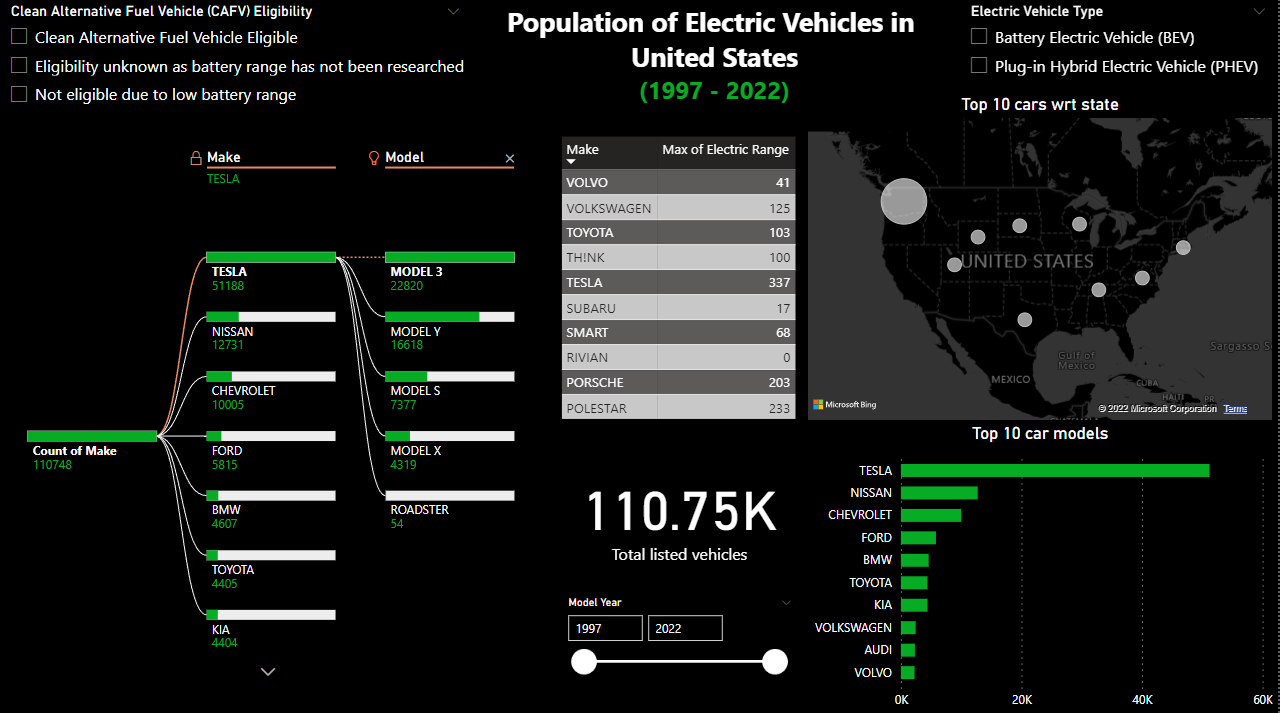

Layout of this report page (visuals, bound fields, positions):
{"tool":"powerbi","page":{"name":"Dashboard","canvas":[1280,720],"ordinal":0},"visuals":[{"type":"decompositionTreeVisual","fields":{"Analyze":["CountNonNull(Electric_Vehicle_Population_Data.Make)"],"ExplainBy":["Electric_Vehicle_Population_Data.Make","Electric_Vehicle_Population_Data.Model"]},"box":[0,133.8,557.5,586.2],"z":0},{"type":"clusteredBarChart","title":"Top 10 car models","fields":{"Category":["Electric_Vehicle_Population_Data.Make"],"Y":["CountNonNull(Electric_Vehicle_Population_Data.Make)"]},"box":[805.6,425.4,474.3,294.6],"z":1000},{"type":"map","title":"Top 10 cars wrt state","fields":{"Category":["Electric_Vehicle_Population_Data.State"],"Size":["CountNonNull(Electric_Vehicle_Population_Data.Make)"]},"box":[805.6,96.6,474.3,330.1],"z":2000},{"type":"slicer","fields":{"Values":["Electric_Vehicle_Population_Data.Electric Vehicle Type"]},"box":[959.6,0,320.3,96.6],"z":3000},{"type":"slicer","fields":{"Values":["Electric_Vehicle_Population_Data.Clean Alternative Fuel Vehicle (CAFV) Eligibility"]},"box":[0,0,473.8,120],"z":4000},{"type":"slicer","fields":{"Values":["Electric_Vehicle_Population_Data.Model Year"]},"box":[557.4,592.9,248.1,116.1],"z":5000},{"type":"card","fields":{"Values":["CountNonNull(Electric_Vehicle_Population_Data.Make)"]},"box":[557.4,458.4,248.1,117.4],"z":6000},{"type":"tableEx","fields":{"Values":["Electric_Vehicle_Population_Data.Make","Max(Electric_Vehicle_Population_Data.Electric Range)"]},"box":[547.5,133.8,257.5,325],"z":7000},{"type":"textbox","box":[474.3,0,485.3,133.2],"z":7001}]}

Visuals, with their boxes in screenshot pixels (x1, y1, x2, y2), scaled from the page's 1280x720 canvas onto the 1280x713 screenshot:
decompositionTreeVisual - CountNonNull(Electric_Vehicle_Population_Data.Make) x Electric_Vehicle_Population_Data.Make: Rect(0, 132, 558, 712)
"Top 10 car models" clusteredBarChart: Rect(806, 421, 1279, 712)
"Top 10 cars wrt state" map: Rect(806, 96, 1279, 423)
slicer - Electric_Vehicle_Population_Data.Electric Vehicle Type: Rect(960, 0, 1279, 96)
slicer - Electric_Vehicle_Population_Data.Clean Alternative Fuel Vehicle (CAFV) Eligibility: Rect(0, 0, 474, 119)
slicer - Electric_Vehicle_Population_Data.Model Year: Rect(557, 587, 806, 702)
card - CountNonNull(Electric_Vehicle_Population_Data.Make): Rect(557, 454, 806, 570)
tableEx - Electric_Vehicle_Population_Data.Make x Max(Electric_Vehicle_Population_Data.Electric Range): Rect(548, 132, 805, 454)
textbox: Rect(474, 0, 960, 132)
